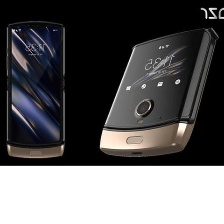phone: (95, 22, 221, 162), (2, 17, 68, 163)
